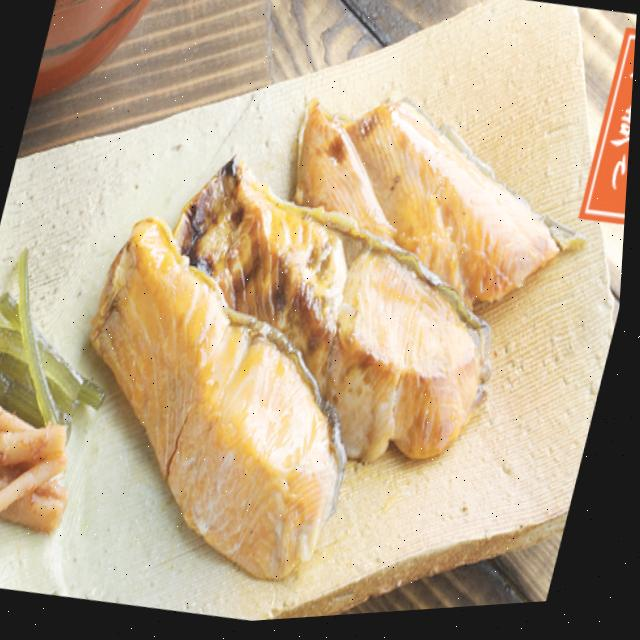熟制海鲜: (42, 0, 622, 636)
